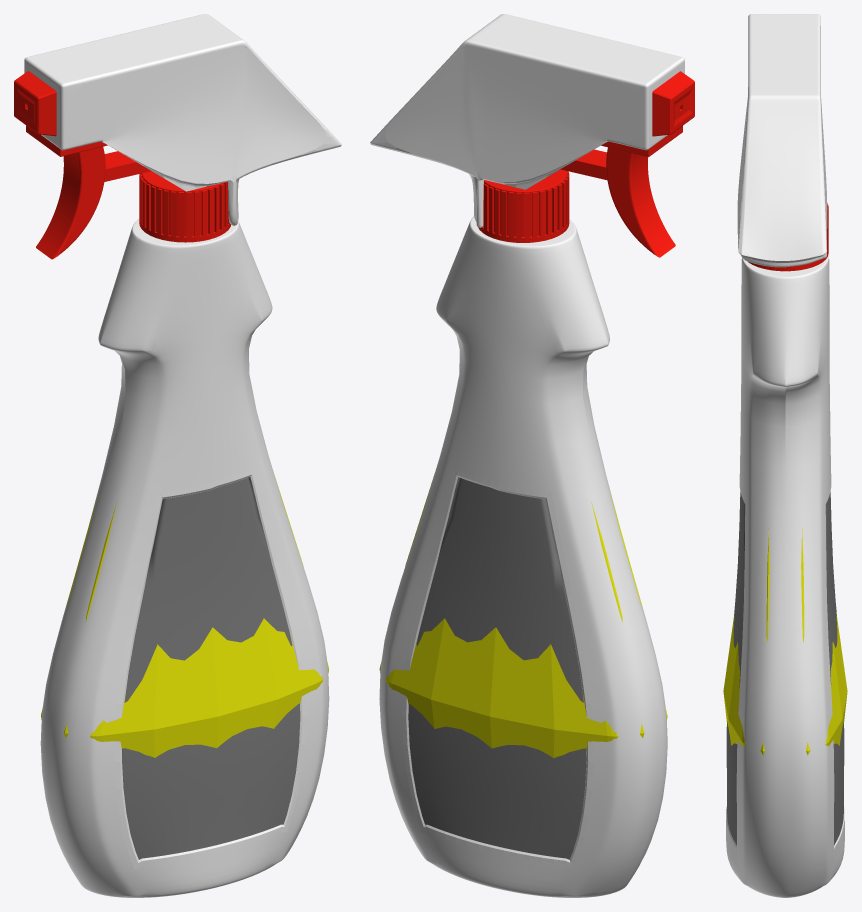
Rendered from 洗涤剂_02.FBX.
The picture shows the model from 3 angles, left to right: view 1: azimuth 30°, elevation 25°; view 2: azimuth 150°, elevation 25°; view 3: azimuth 270°, elevation 25°; orthographic projection. The views are drawn at different scales.
Parts seen in each view (by area): view 1: Ellipse01, 3dxy, Box02, Ellipse02, Cylinder01, Arc02, Box01; view 2: Ellipse01, 3dxy, Box02, Ellipse02, Cylinder01, Arc02, Box01; view 3: Ellipse01, Box02, 3dxy, Ellipse02, Cylinder01.
Part boxes in pixels (box(x1,y1,x2,y2)): Ellipse01: box(40, 219, 329, 897); 3dxy: box(122, 477, 300, 859); Box02: box(24, 14, 341, 225); Ellipse02: box(41, 478, 328, 757); Cylinder01: box(139, 171, 230, 242); Arc02: box(36, 146, 150, 259); Box01: box(14, 71, 107, 156); Ellipse01: box(379, 216, 667, 897); 3dxy: box(408, 477, 586, 859); Box02: box(370, 14, 684, 227); Ellipse02: box(379, 477, 667, 758); Cylinder01: box(478, 169, 569, 242); Arc02: box(560, 147, 675, 257); Box01: box(601, 71, 694, 157); Ellipse01: box(726, 254, 844, 897); Box02: box(737, 14, 827, 267); 3dxy: box(726, 492, 844, 845); Ellipse02: box(723, 528, 847, 755); Cylinder01: box(748, 203, 828, 271).
Bounding box in the file's own units: 18.71 × 50.36 × 7.3.
